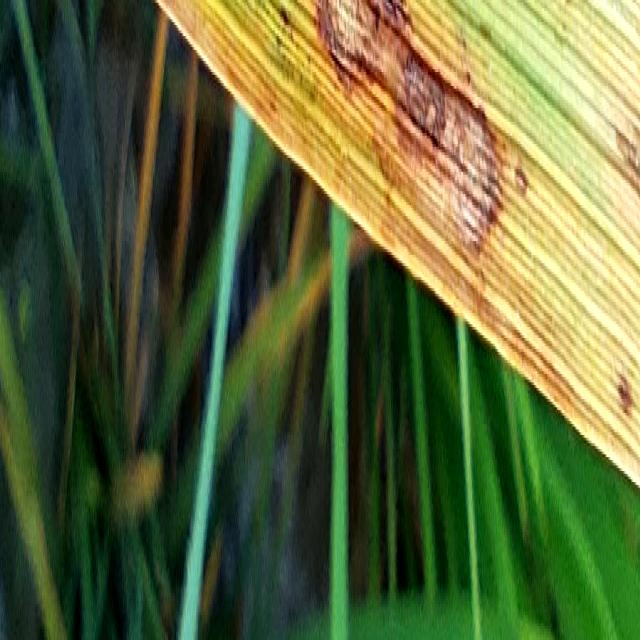LEAF BLAST: (316, 0, 500, 249)
